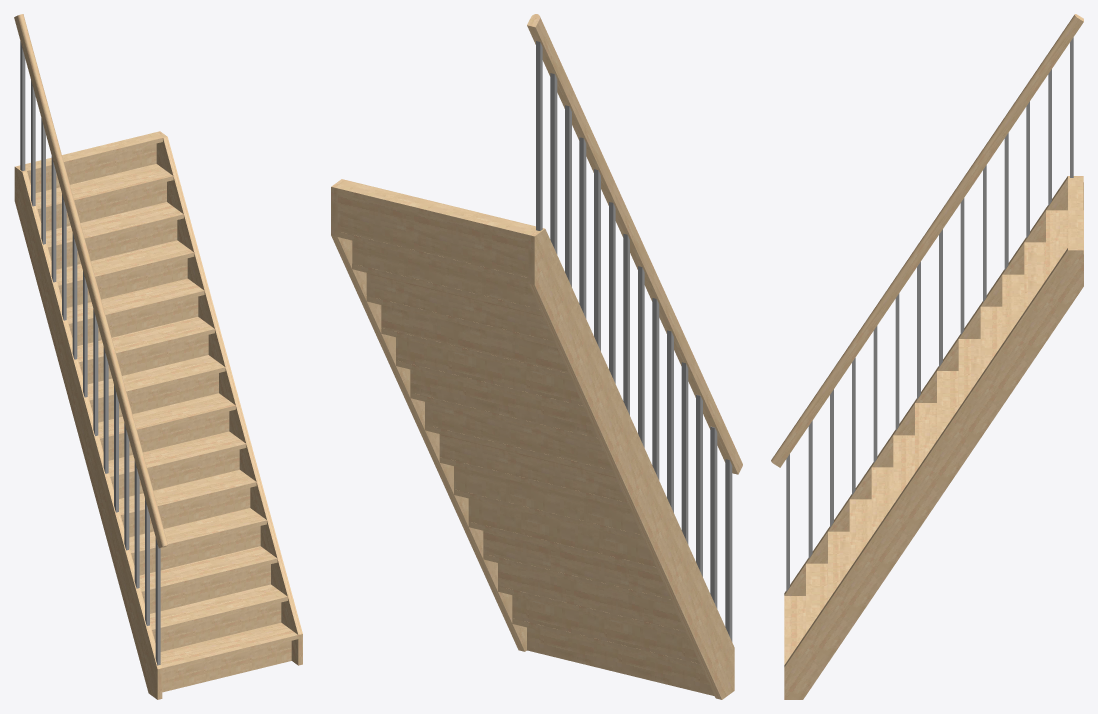
File: staircase_ladder_steep.obj
The picture shows the model from 3 angles, left to right: view 1: azimuth 30°, elevation 25°; view 2: azimuth 150°, elevation 25°; view 3: azimuth 270°, elevation 25°; orthographic projection. The views are drawn at different scales.
Visible parts, largest first — view 1: 3_3, 5_5, 71_71, 28_28, 72_72, 2_2.001; view 2: 6_6, 3_3, 71_71, 28_28, 2_2.001, 72_72; view 3: 72_72, 3_3, 28_28, 2_2.001, 71_71.
Part boxes in pixels (bbox=[...]): 3_3: bbox=[18, 132, 299, 672]; 5_5: bbox=[28, 143, 291, 692]; 71_71: bbox=[14, 166, 162, 699]; 28_28: bbox=[20, 41, 160, 665]; 72_72: bbox=[156, 131, 302, 665]; 2_2.001: bbox=[14, 14, 167, 548]; 6_6: bbox=[337, 194, 714, 695]; 3_3: bbox=[335, 180, 702, 670]; 71_71: bbox=[528, 228, 734, 699]; 28_28: bbox=[536, 41, 732, 641]; 2_2.001: bbox=[527, 14, 742, 474]; 72_72: bbox=[331, 179, 526, 651]; 72_72: bbox=[784, 248, 1083, 699]; 3_3: bbox=[784, 177, 1083, 664]; 28_28: bbox=[786, 37, 1073, 591]; 2_2.001: bbox=[771, 14, 1083, 467]; 71_71: bbox=[784, 176, 1083, 595].
Bounding box in the file's own units: 94.44 × 361 × 167.
